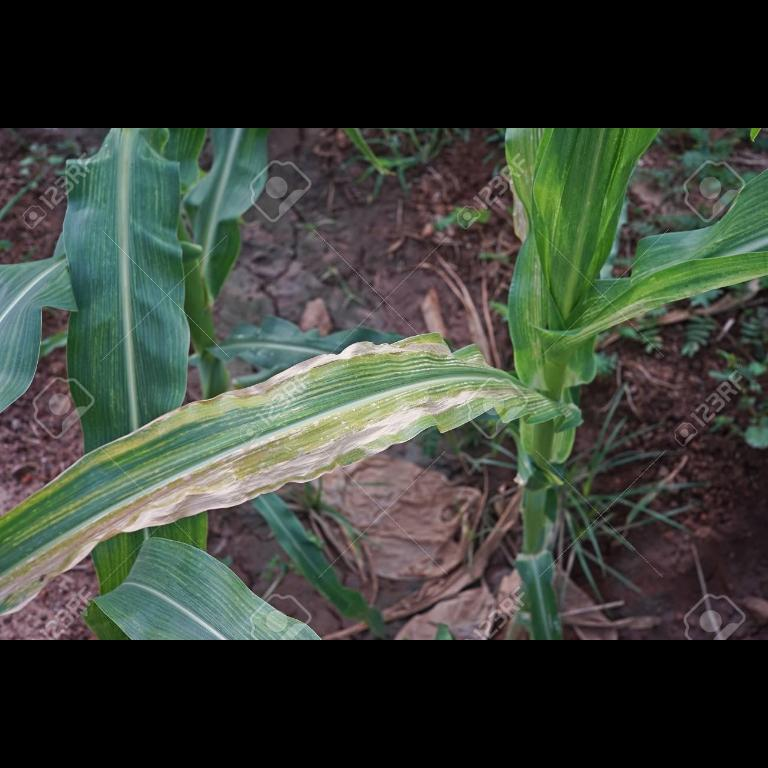blight: (147, 422, 303, 490)
